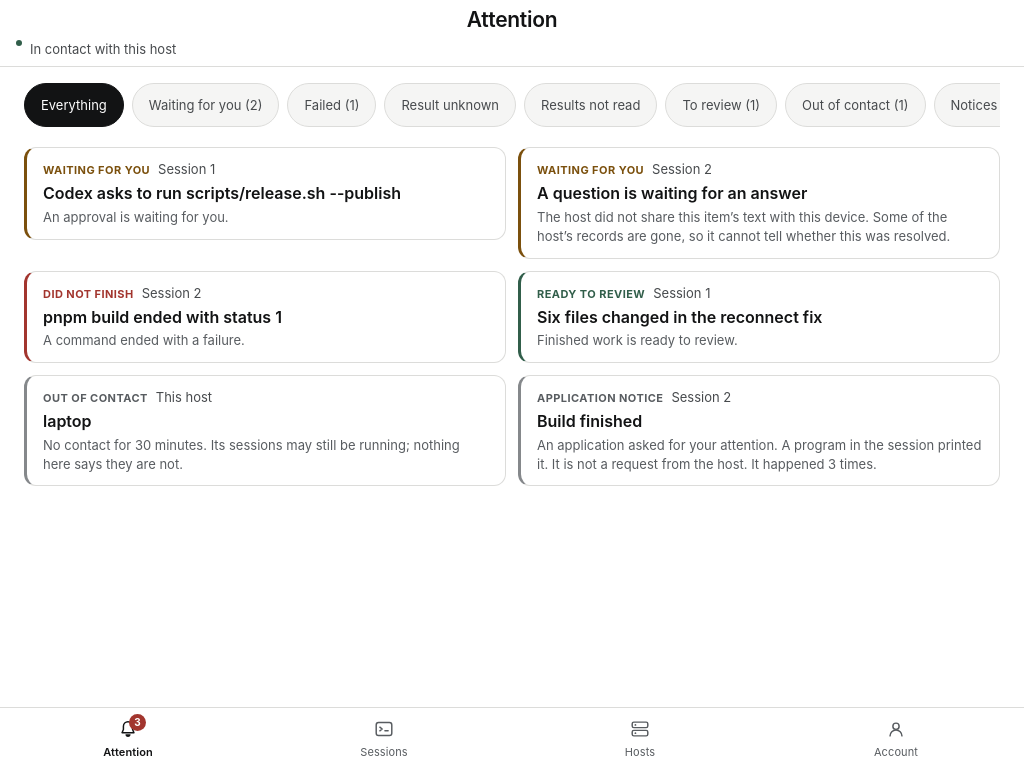
Test: the ios inbox sheet of an approval that cannot be answered here › an_agent_that_does_not_use_channels_gets_no_offer_in_the_sheet
The width and height of the screenshot is (1024, 768).
Click the button named "Waiting for you. Codex asks to run scripts/release.sh --publish". click: (265, 194)
box: [24,147,506,240]
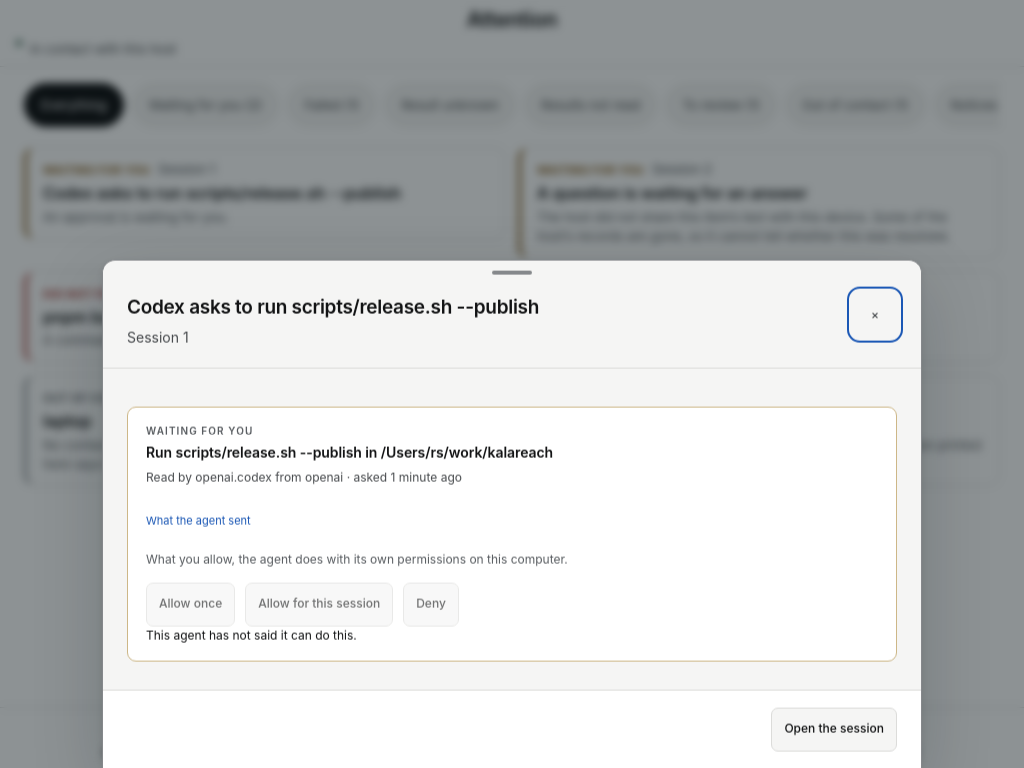
Now the text "This agent has not said it can do this." is shown, box [146,628,357,643]
